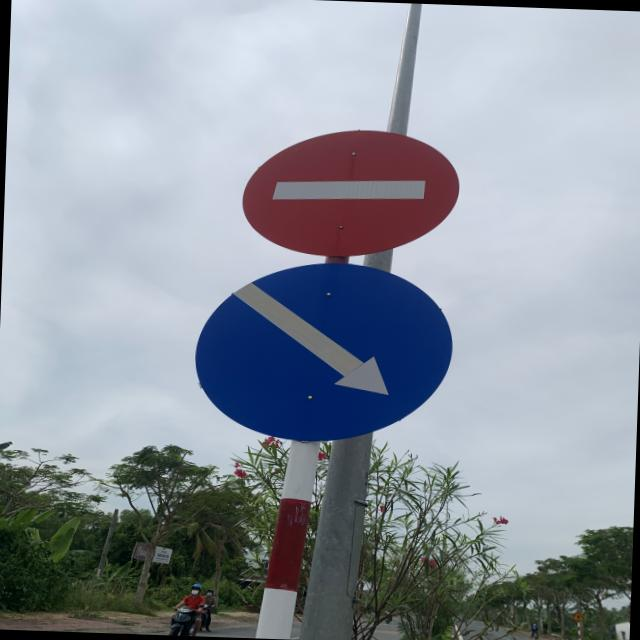Cam_Di_Nguoc_Chieu: (237, 122, 460, 262)
Chi_Huong_Di_Phai: (192, 260, 454, 445)
